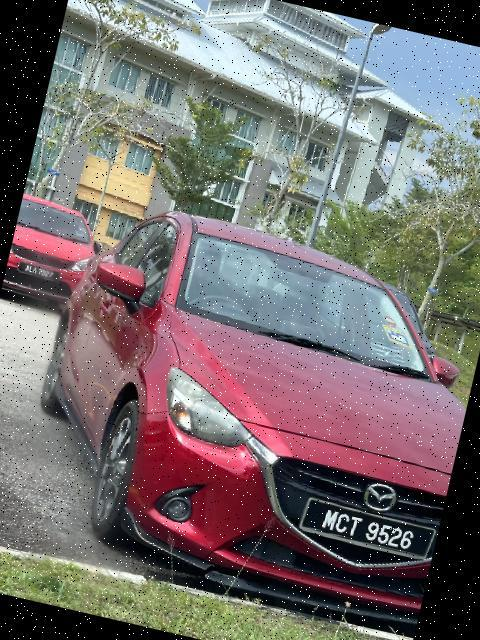ALA7327: (19, 261, 63, 288)
License_Plate: (299, 497, 435, 567), (19, 261, 63, 288)
MCT9526: (299, 497, 435, 567)
car: (1, 183, 480, 640), (1, 185, 127, 322)
